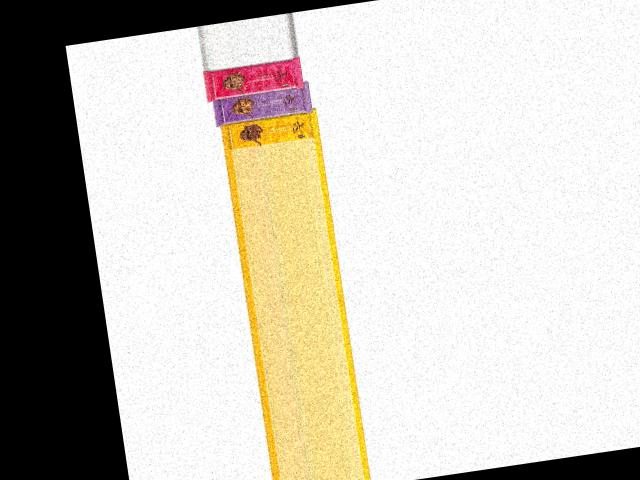chocolate: (196, 55, 308, 102)
